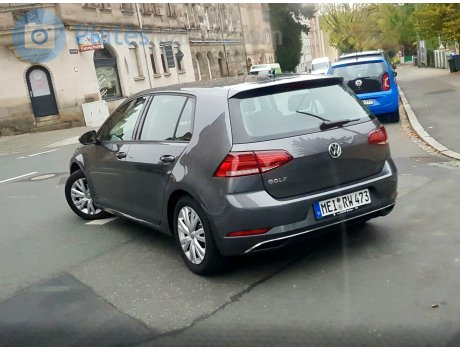License Plates: (309, 194, 367, 212)
